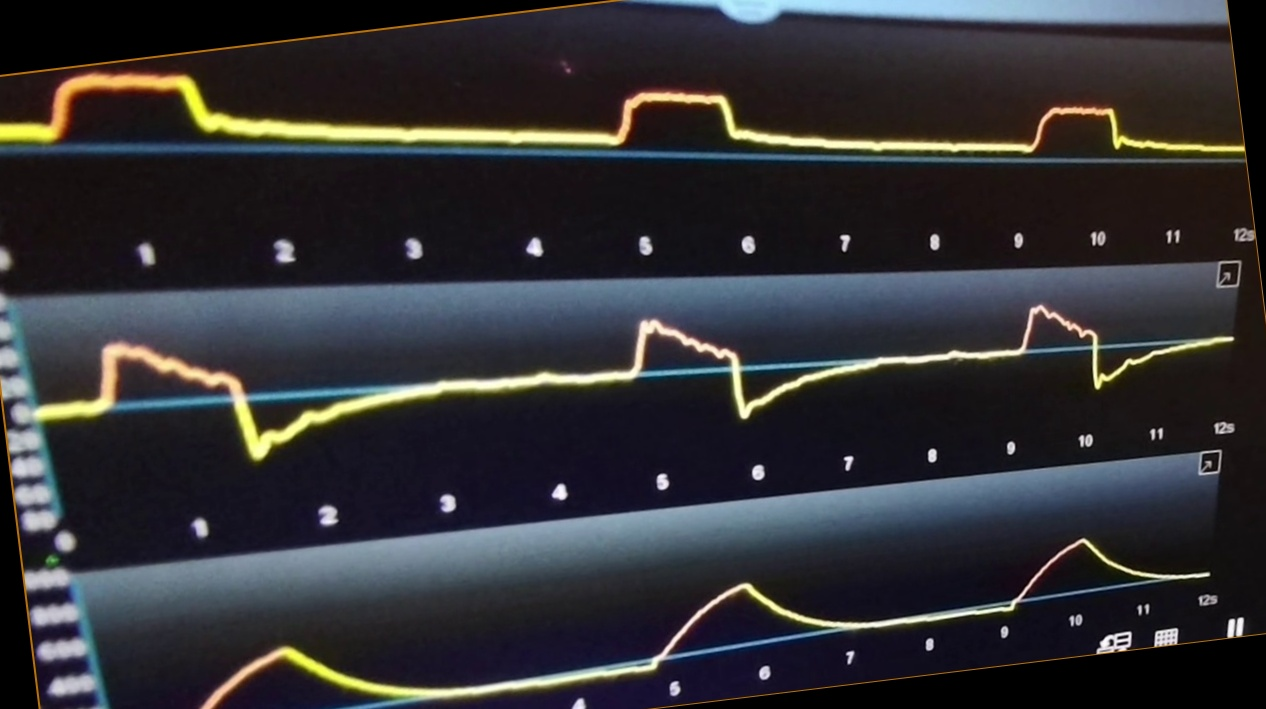Accumulation Flow: (61, 303, 1235, 461)
Volume: (179, 541, 1211, 704)
